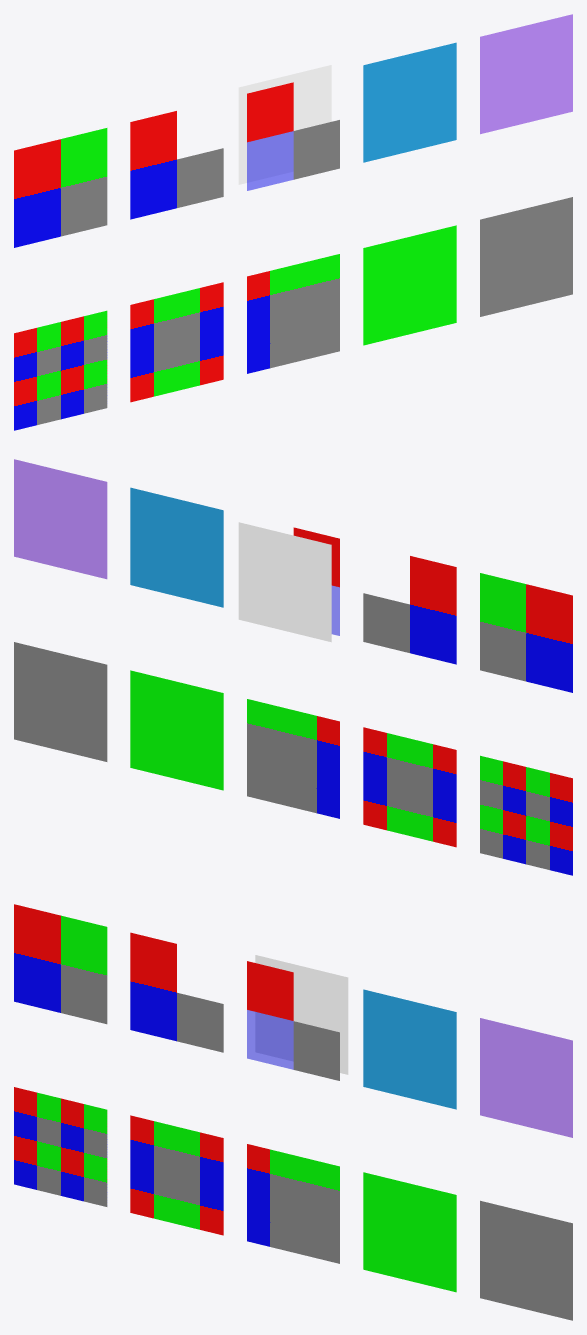
File: board.gltf
The picture shows the model from 3 angles, top to bottom: view 1: azimuth 30°, elevation 25°; view 2: azimuth 150°, elevation 25°; view 3: azimuth 330°, elevation 25°; orthographic projection.
Size of the model in its own units: 9.6 by 4.6 by 0.25.
Materials: 11 (9 with a texture image).
